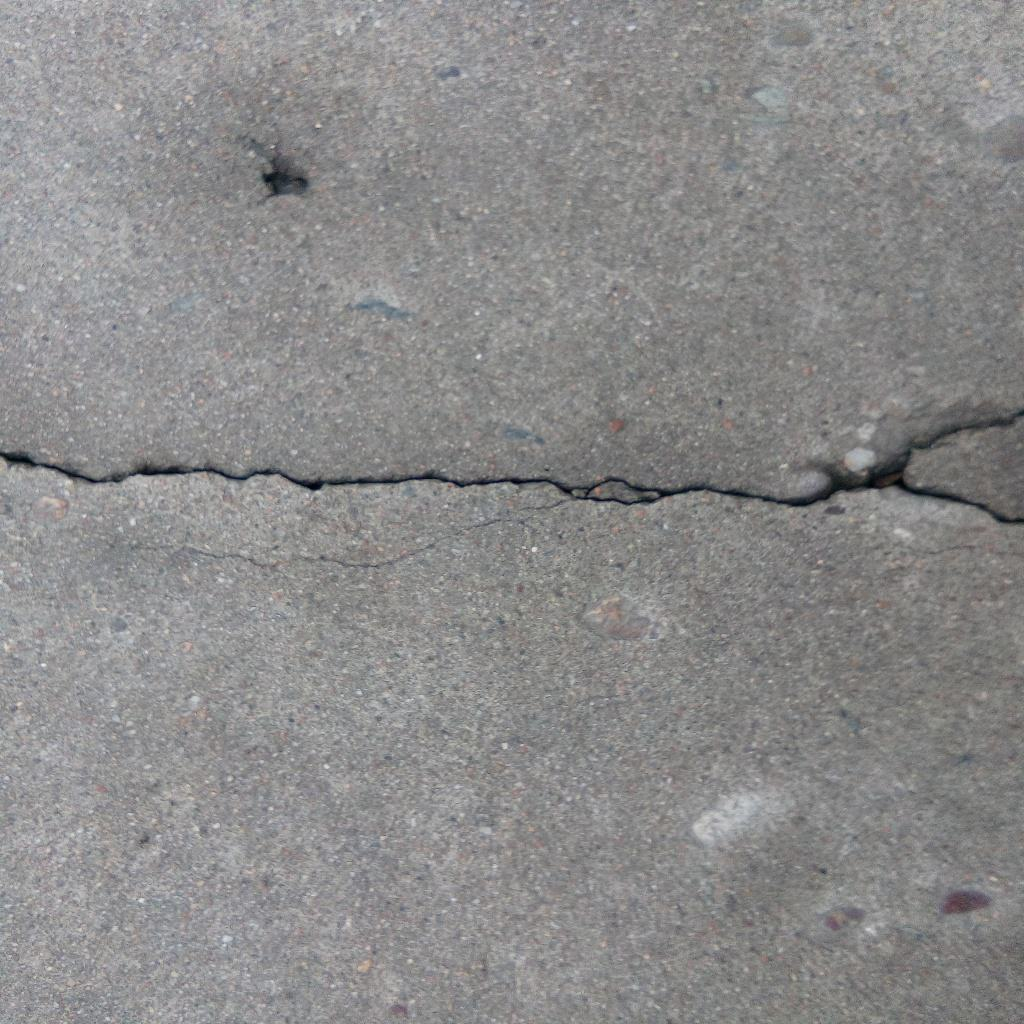Crack: (1, 412, 1024, 528), (133, 499, 574, 569)
Spalling: (261, 171, 310, 198)
